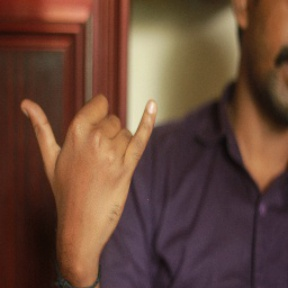J: (20, 75, 158, 217)
